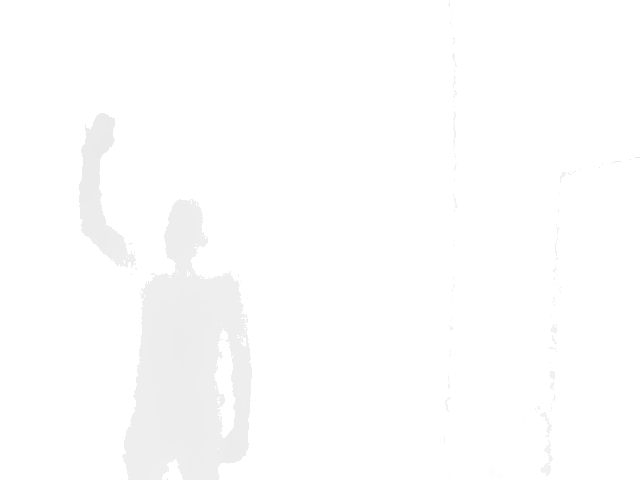hand: (80, 112, 117, 159)
head: (162, 198, 210, 262)
person: (77, 112, 252, 479)
